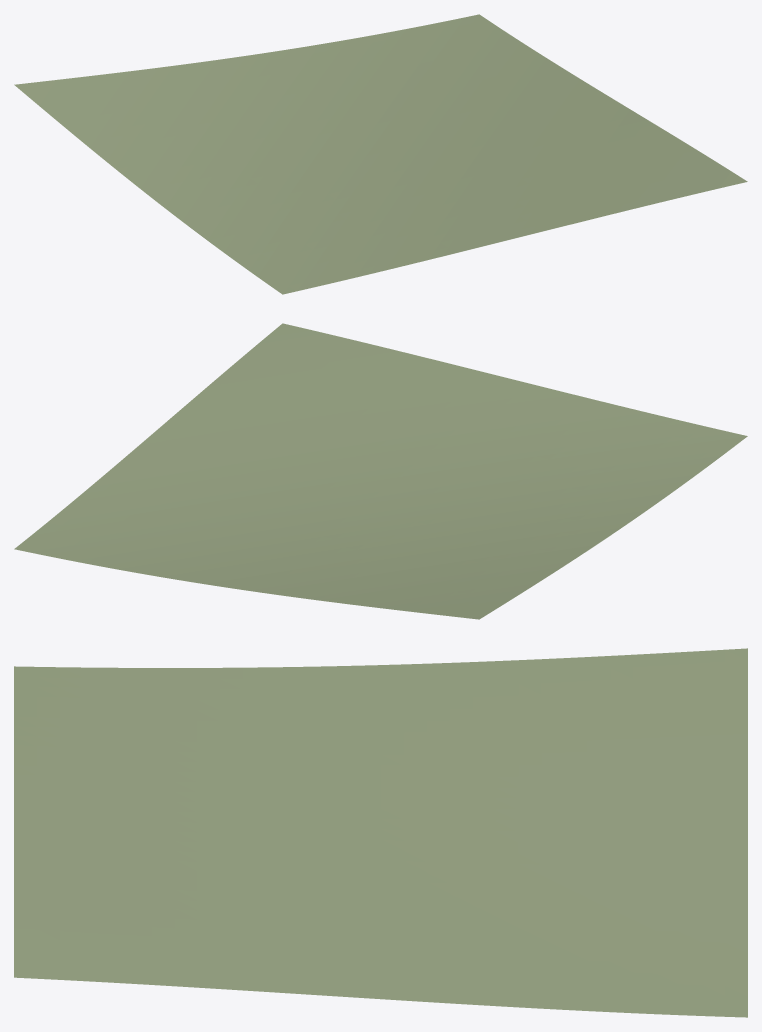
File: alpine-7-15.glb
3 renders of one model, top to bottom at view 1: azimuth 30°, elevation 25°; view 2: azimuth 150°, elevation 25°; view 3: azimuth 270°, elevation 25°, orthographic. The views are drawn at different scales.
Parts seen in each view (by area): view 1: alpine-7-15; view 2: alpine-7-15; view 3: alpine-7-15.
Boxes of the visible parts, left/top/right/bottom form: alpine-7-15: left=14, top=14, right=747, bottom=294; alpine-7-15: left=14, top=323, right=747, bottom=619; alpine-7-15: left=14, top=648, right=747, bottom=1017.
Bounding box in the file's own units: 256 × 22.68 × 256.
